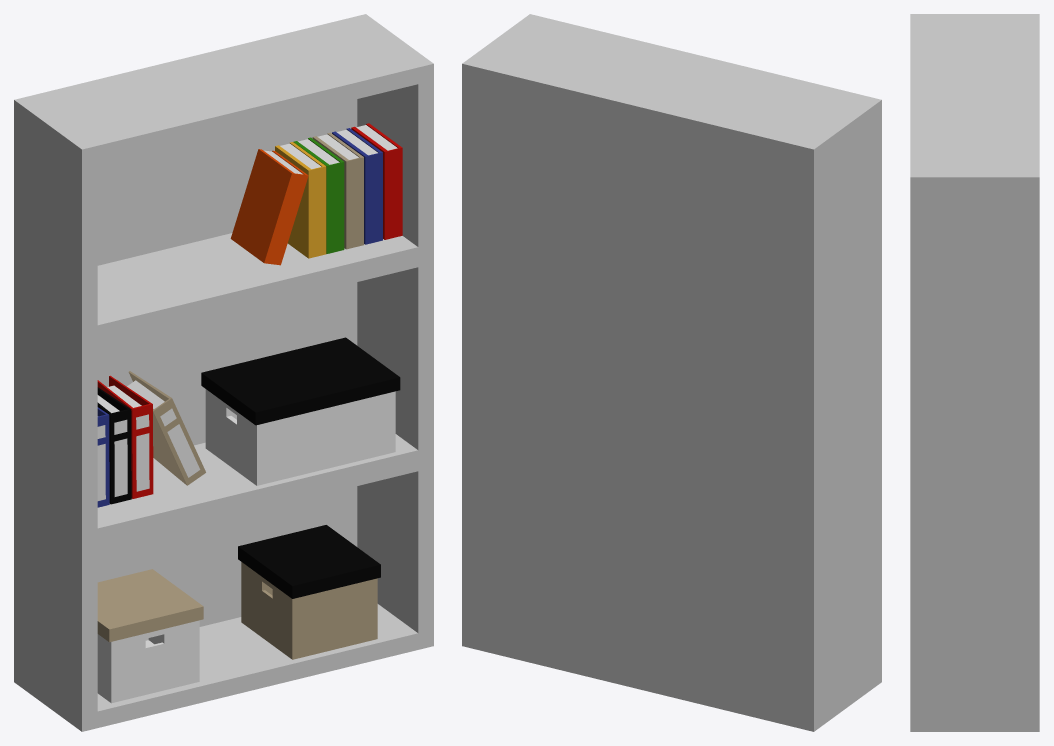
File: P_Cabinet.fbx
3 renders of one model, left to right at view 1: azimuth 30°, elevation 25°; view 2: azimuth 150°, elevation 25°; view 3: azimuth 270°, elevation 25°, orthographic. The views are drawn at different scales.
Visible parts, largest first — view 1: P_Cabinet; view 2: P_Cabinet; view 3: P_Cabinet.
Boxes of the visible parts, x1,y1,x2,y2 form: P_Cabinet: (14,14,433,731); P_Cabinet: (462,14,881,731); P_Cabinet: (910,14,1039,731).
Size of the model in its own units: 721 by 241 by 1140.
